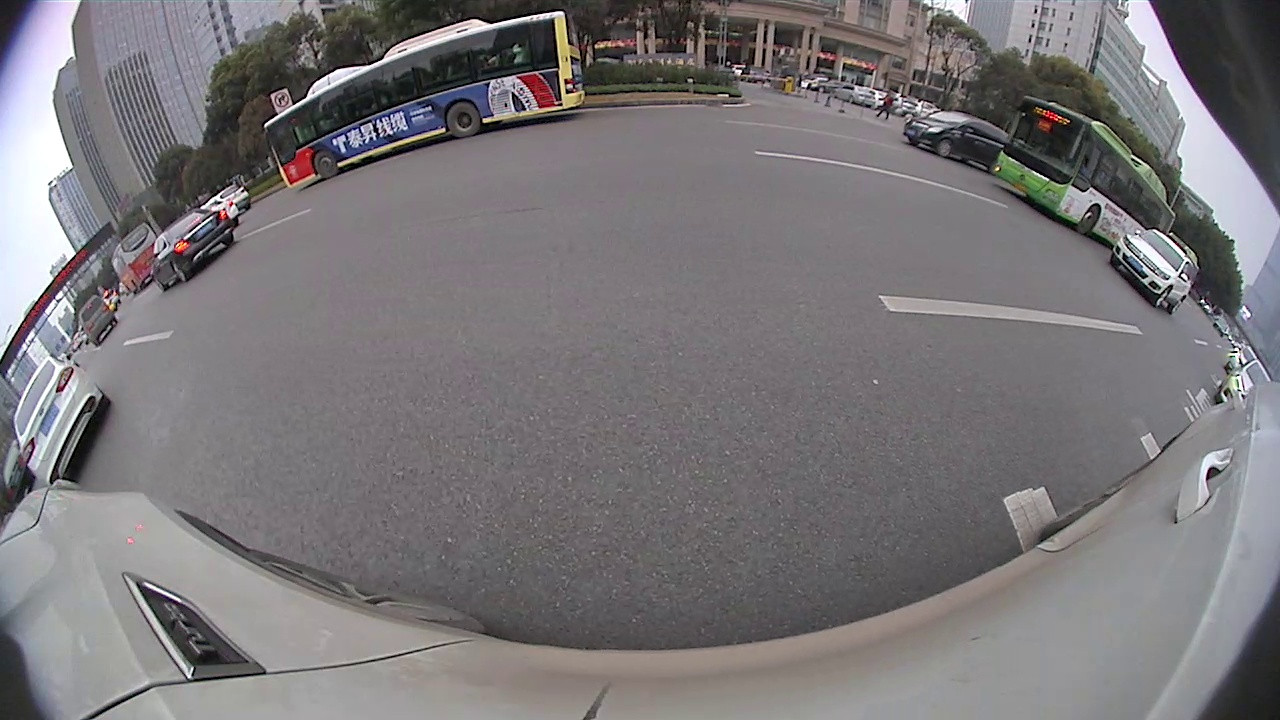bus: (262, 9, 585, 189), (989, 93, 1177, 251), (111, 222, 159, 296)
car: (11, 351, 112, 488), (1109, 227, 1202, 315), (151, 205, 237, 292), (902, 108, 1010, 167), (1213, 357, 1274, 406), (76, 293, 119, 346), (203, 182, 252, 214), (1224, 344, 1260, 377)
front: (1072, 204, 1104, 237), (312, 147, 341, 181), (1146, 283, 1173, 309), (933, 135, 956, 158), (1104, 252, 1121, 270)
rear: (445, 97, 482, 139), (92, 393, 114, 416), (173, 262, 193, 285), (218, 230, 236, 252), (1167, 296, 1184, 316)
